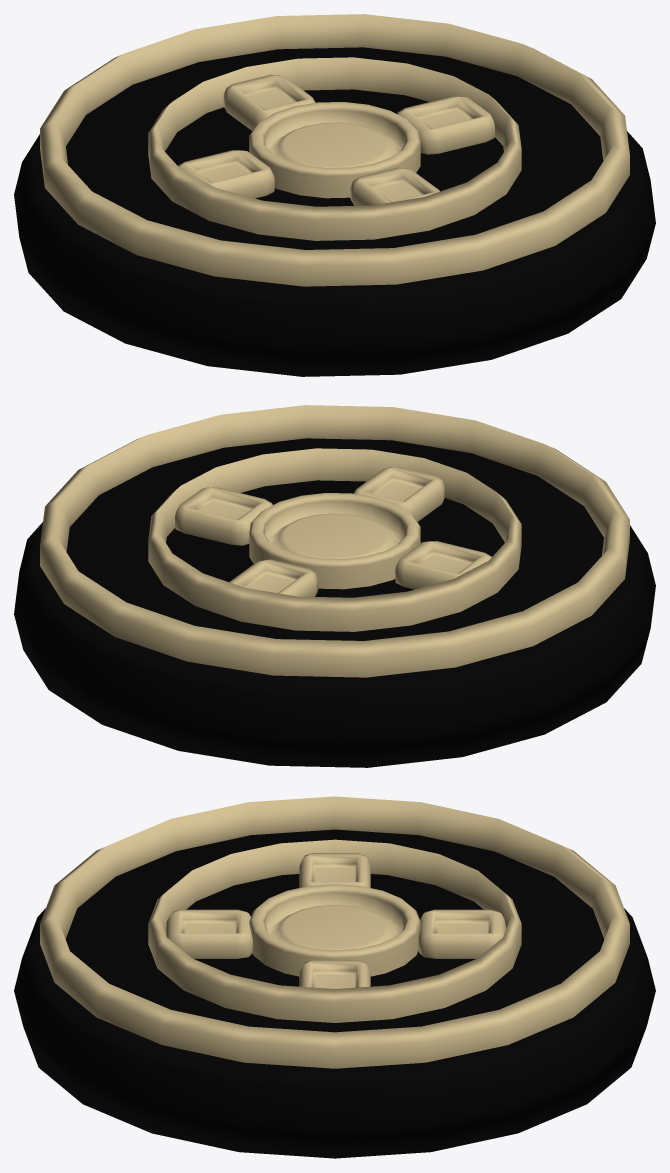
Rendered from Checkpoint.fbx.
3 views of the same model, one above another, from view 1: azimuth 30°, elevation 25°; view 2: azimuth 150°, elevation 25°; view 3: azimuth 270°, elevation 25° (orthographic).
Parts seen in each view (by area): view 1: checkpoint1; view 2: checkpoint1; view 3: checkpoint1.
Boxes of the visible parts, x1,y1,x2,y2 form: checkpoint1: [14, 14, 655, 376]; checkpoint1: [14, 405, 655, 767]; checkpoint1: [14, 796, 655, 1158].
Size of the model in its own units: 4.77 by 0.9212 by 4.77.
